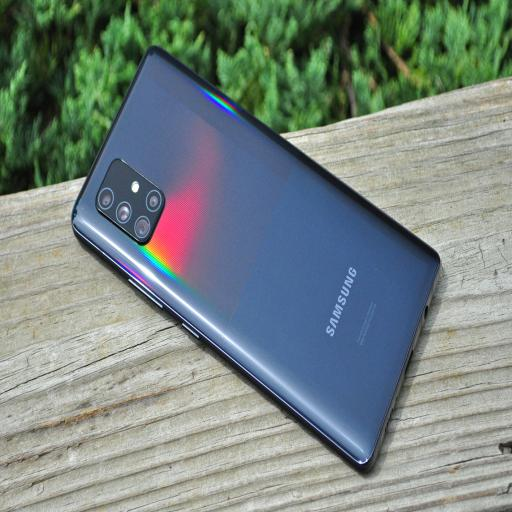phone: (70, 48, 442, 473)
